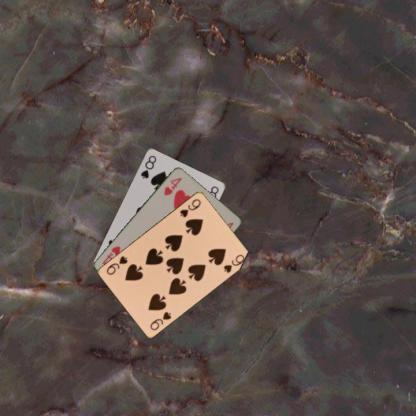4h: (161, 174, 183, 196)
8s: (138, 152, 158, 180)
9s: (147, 309, 173, 332), (178, 196, 202, 218)
